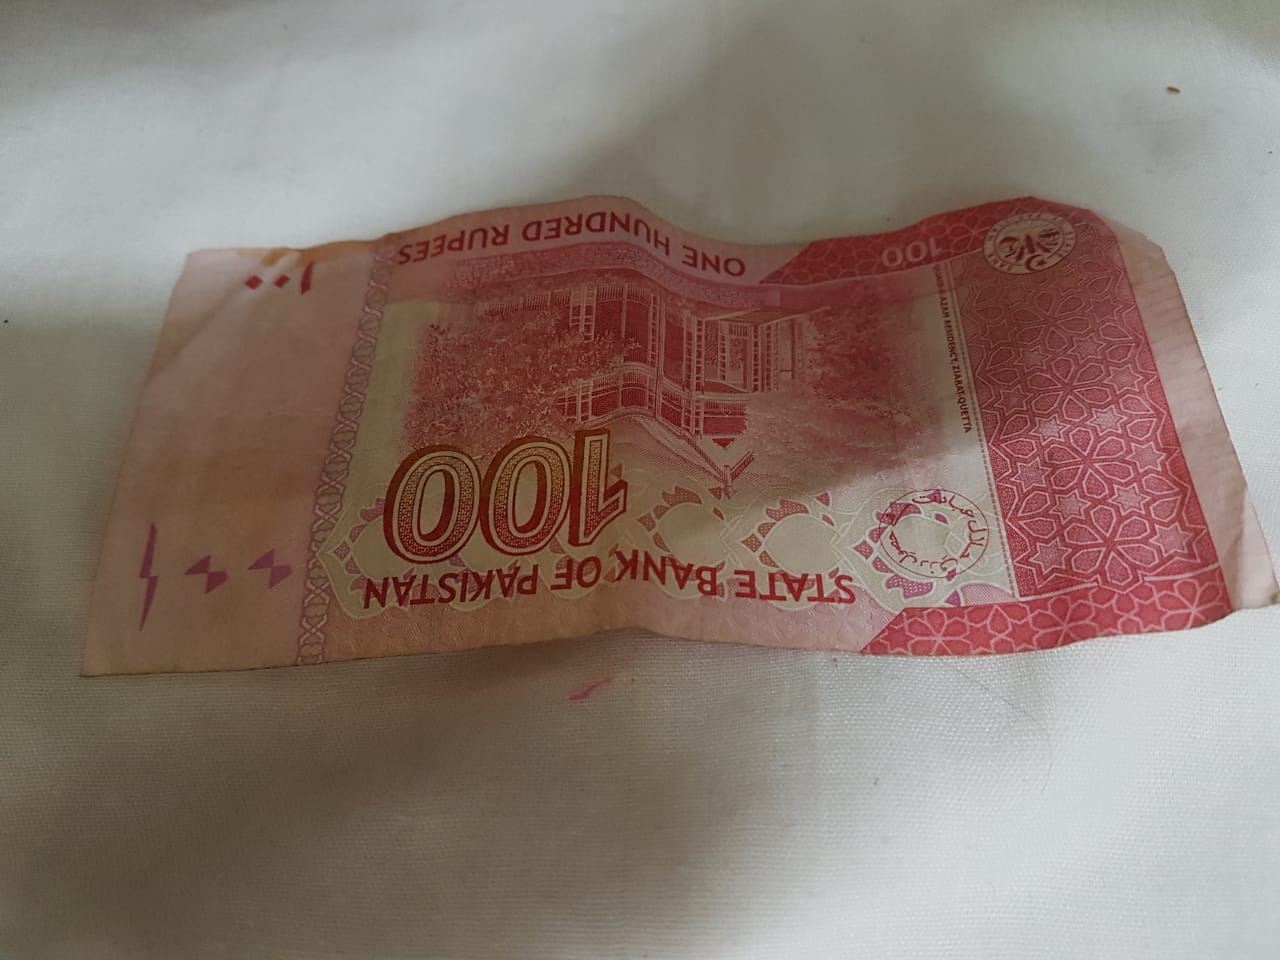100 rupee: (62, 214, 1280, 690)
